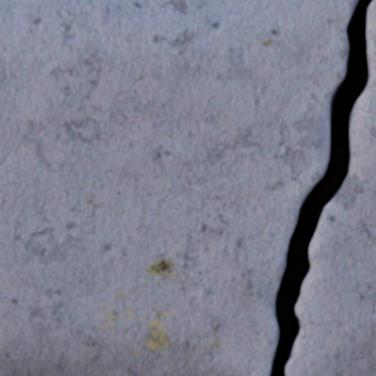broken_brick: (0, 0, 355, 375), (286, 0, 375, 375)
crack: (269, 0, 373, 375)
